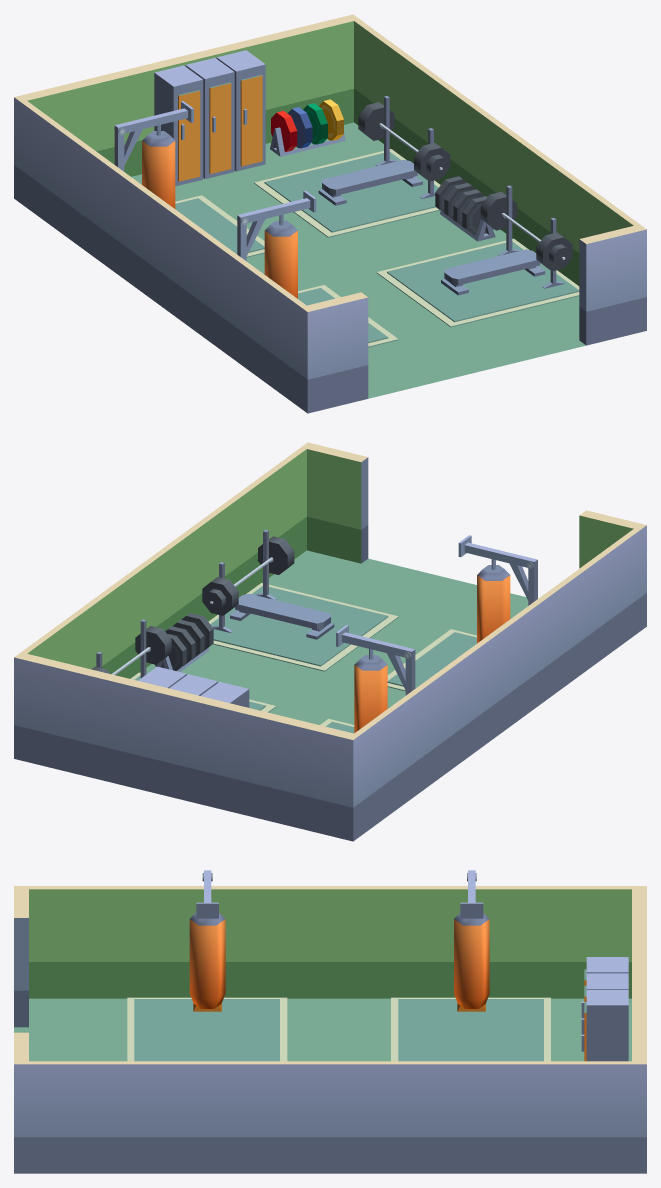
File: Gym_Room.fbx
The picture shows the model from 3 angles, top to bottom: view 1: azimuth 30°, elevation 25°; view 2: azimuth 150°, elevation 25°; view 3: azimuth 270°, elevation 25°; orthographic projection. The views are drawn at different scales.
Parts seen in each view (by area): view 1: wall_half8, unit123, wall_half9, wall33, pCube16, wall35, wall34, pCube14, Barbell (×2), pCube21, pCube23, pCube22 (+11 smaller); view 2: wall33, wall_half8, wall_half9, unit123, pCube16, wall34, Barbell (×2), wall35, boxing3, boxing2, Bench2, weight (+7 smaller); view 3: wall_half9, wall_half8, unit123, pCube17, pCube15, pCube23, boxing2, wall33, boxing3, wall35, wall34, pCube22 (+3 smaller).
Part boxes in pixels (box(x1,y1,x2,y2)): wall_half8: box(14, 96, 308, 407); unit123: box(131, 122, 585, 398); wall_half9: box(348, 14, 641, 285); wall33: box(14, 15, 357, 203); pCube16: box(376, 238, 579, 327); wall35: box(300, 292, 368, 413); wall34: box(579, 226, 646, 345); pCube14: box(254, 149, 440, 237); Barbell (×2): box(358, 102, 572, 271); pCube21: box(154, 65, 203, 186); pCube23: box(216, 50, 265, 171); pCube22: box(185, 58, 234, 178); wall33: box(20, 654, 360, 840); wall_half8: box(347, 527, 641, 841); wall_half9: box(14, 445, 308, 760); unit123: box(140, 550, 528, 724); pCube16: box(208, 583, 398, 671); wall34: box(304, 442, 368, 563); Barbell (×2): box(91, 536, 294, 674); wall35: box(579, 510, 646, 631); boxing3: box(354, 649, 387, 732); boxing2: box(477, 559, 510, 643); Bench2: box(230, 593, 334, 639); weight: box(154, 613, 213, 671); wall_half9: box(23, 1061, 646, 1173); wall_half8: box(23, 886, 646, 998); unit123: box(14, 998, 631, 1061); pCube17: box(127, 997, 287, 1061); pCube15: box(391, 997, 550, 1061); pCube23: box(581, 989, 628, 1061); boxing2: box(189, 912, 225, 1008); wall33: box(632, 886, 646, 1173); boxing3: box(454, 913, 489, 1008); wall35: box(14, 886, 28, 1027); wall34: box(14, 1032, 28, 1173); pCube22: box(581, 973, 628, 1034).
Bounding box in the file's own units: 700 × 262 × 1050.
